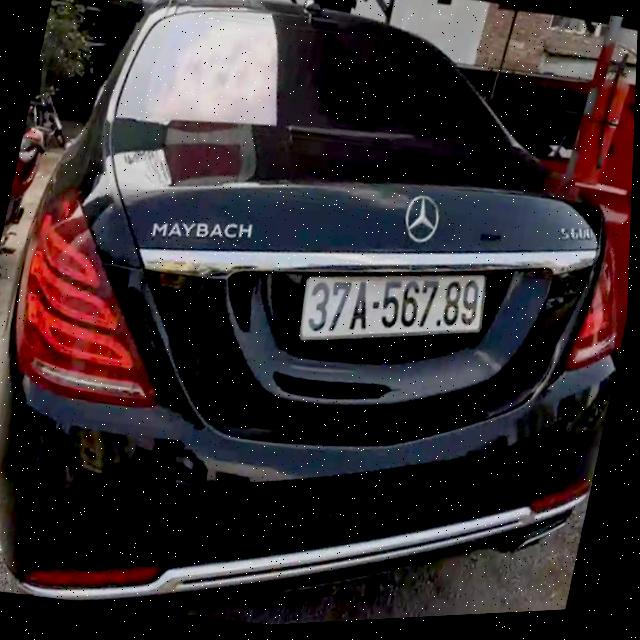car: (0, 0, 640, 640)
plate: (289, 241, 495, 371)
